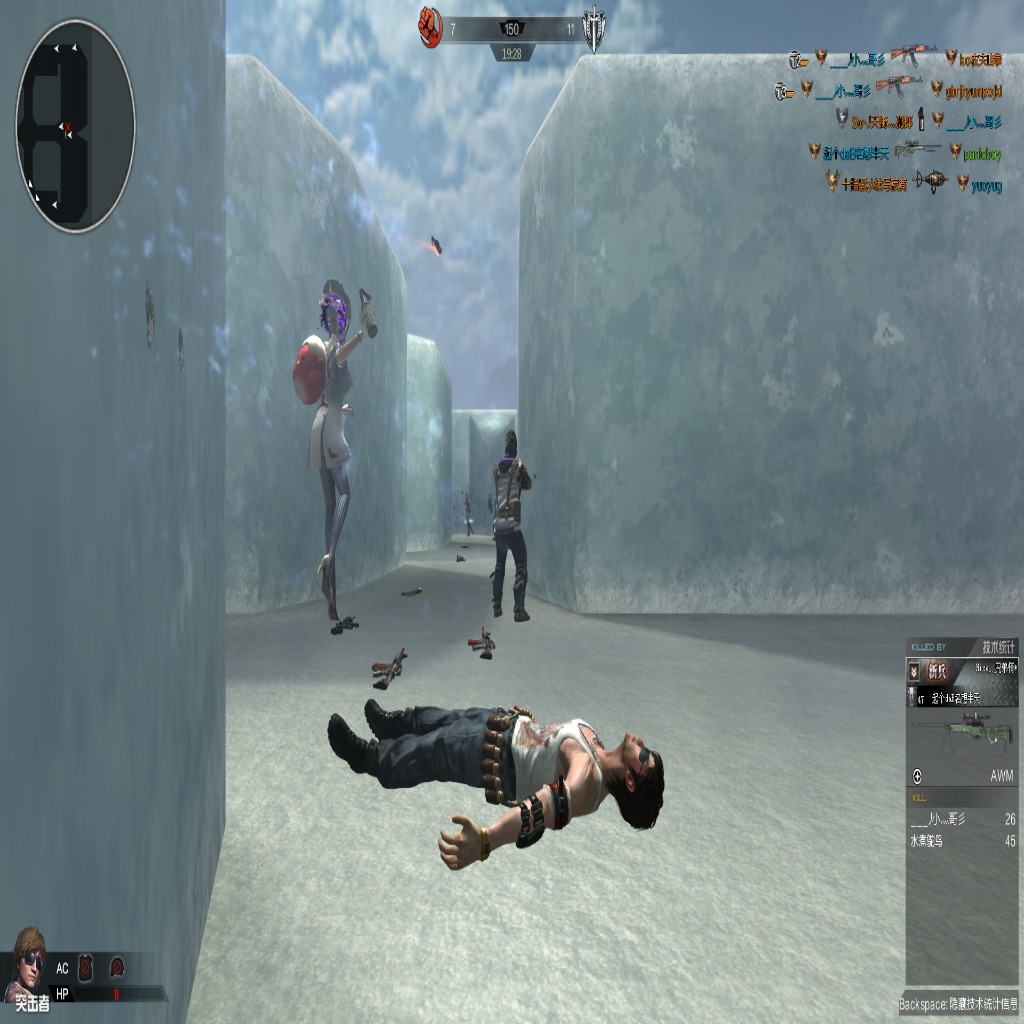ct: (462, 491, 474, 537)
tt: (296, 277, 368, 615), (490, 426, 531, 625)
